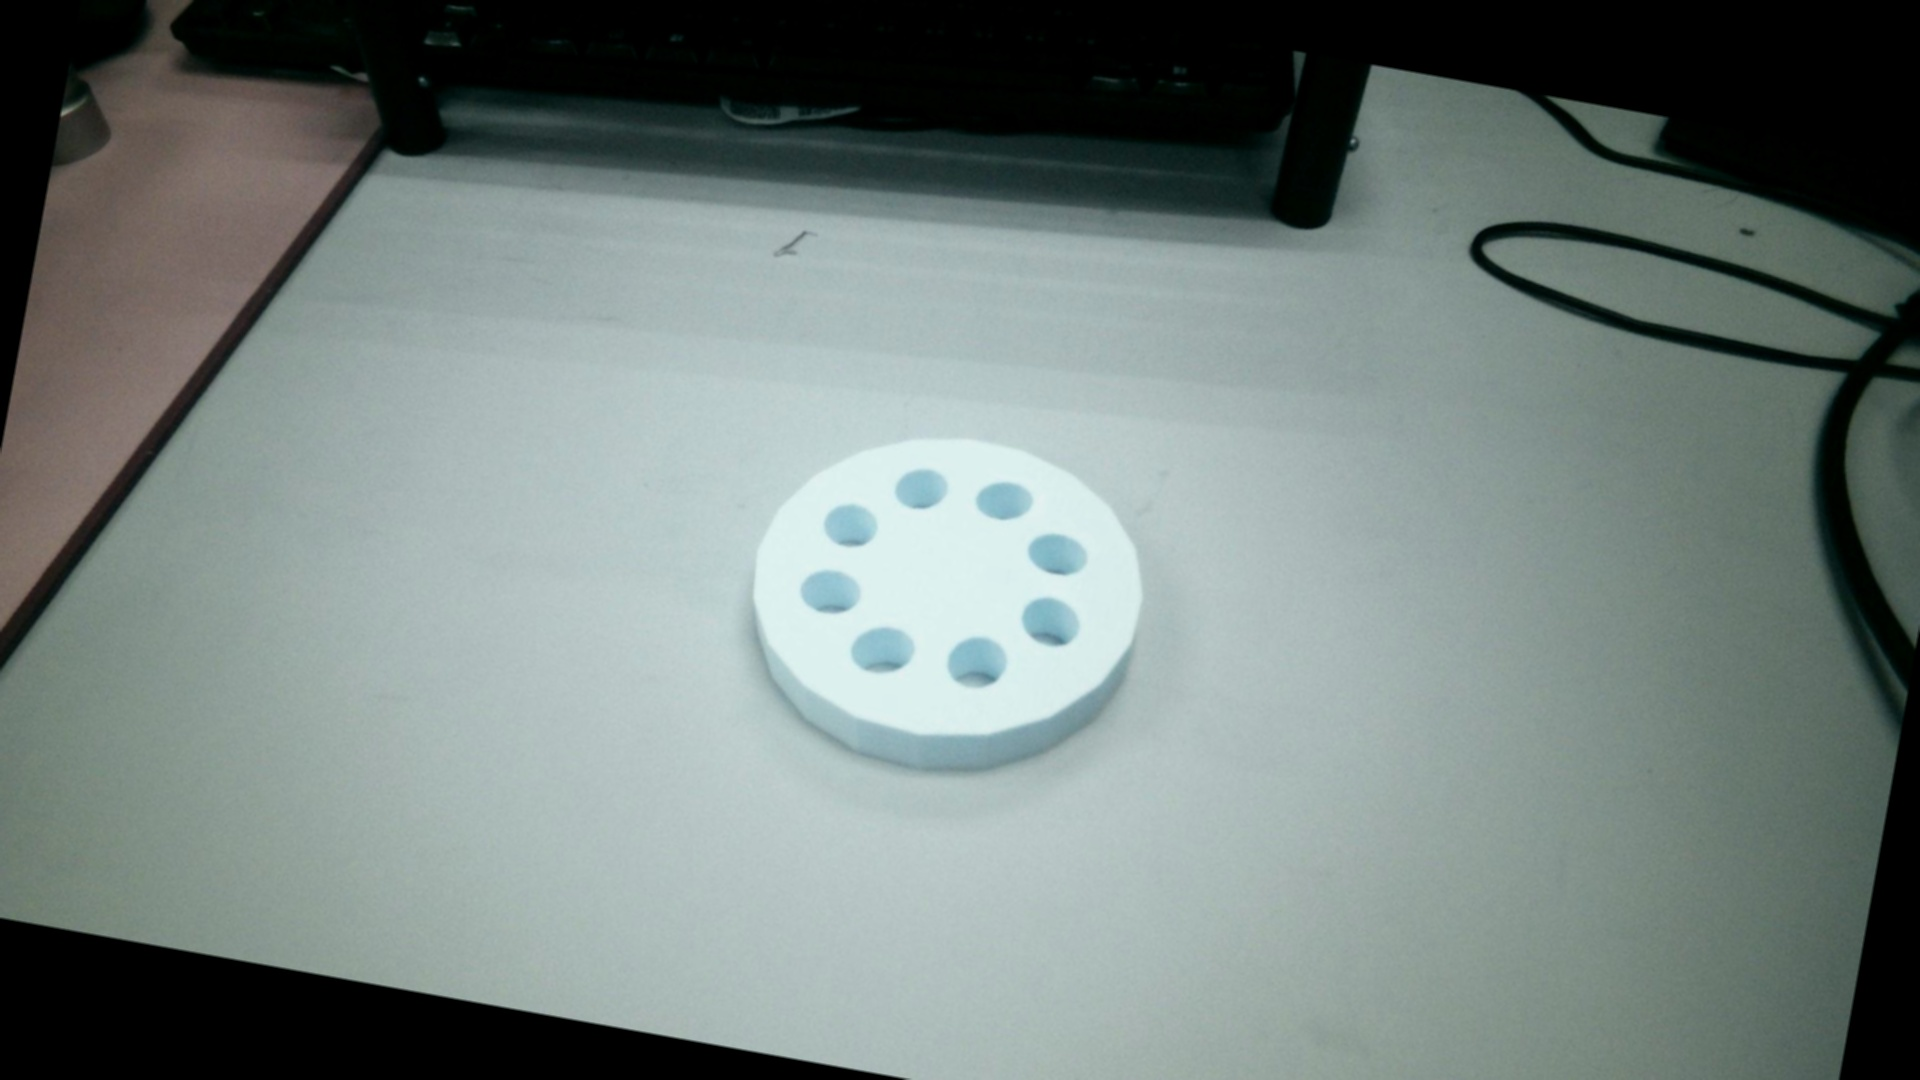hole: (844, 617, 927, 686), (798, 554, 869, 621), (944, 628, 1011, 694), (1025, 520, 1095, 583), (973, 471, 1039, 527), (1025, 595, 1085, 650), (825, 495, 887, 546), (894, 464, 952, 513)
obj: (725, 390, 1170, 807)
